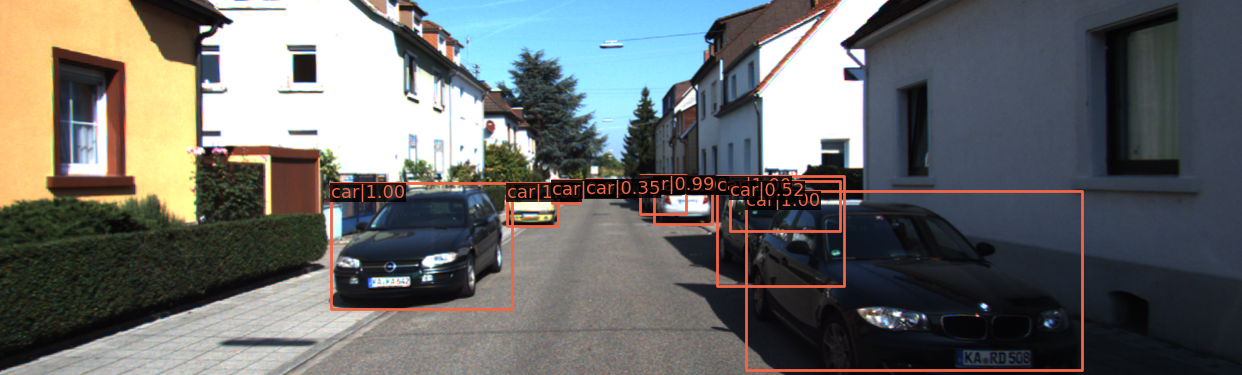car: (745, 196, 1104, 375), (331, 189, 506, 320), (717, 183, 858, 290), (657, 178, 713, 226), (507, 186, 557, 230)
